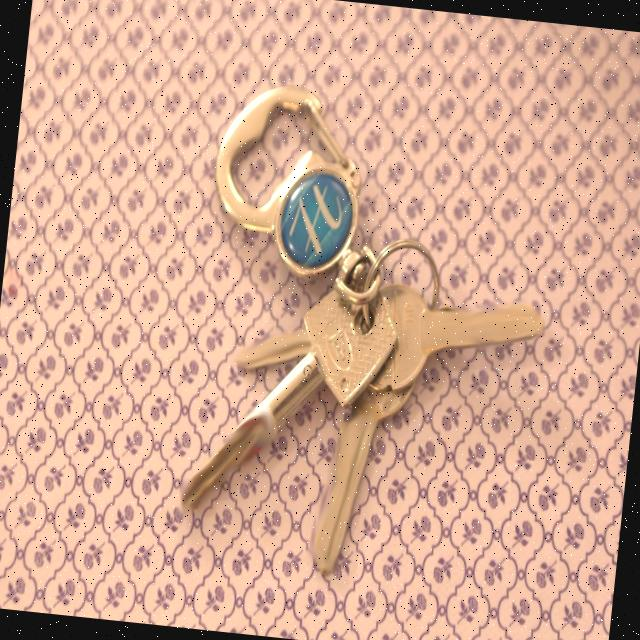Frontdoor keys: (174, 258, 400, 526), (356, 264, 550, 412)
